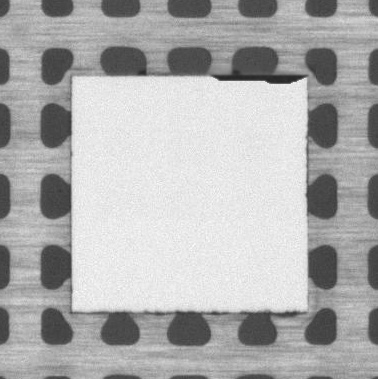DIE_BROKEN: (215, 69, 308, 86)
